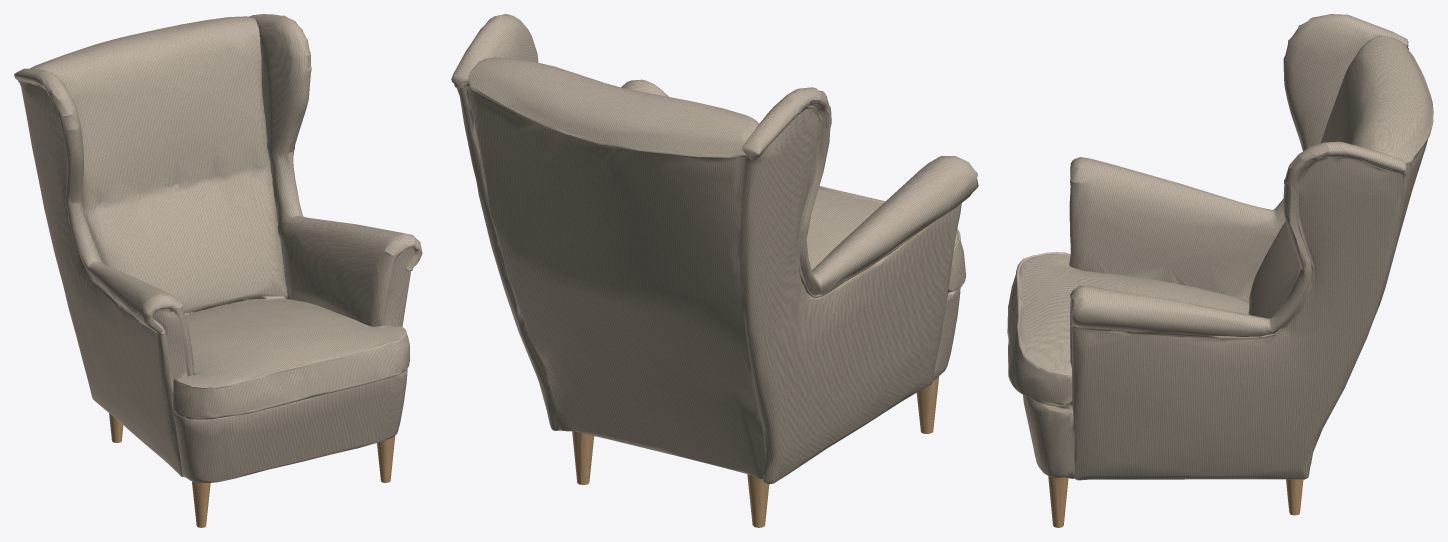
File: strandmon_wing_chair_kelinge_beige.glb
3 views of the same model, side by side, from view 1: azimuth 30°, elevation 25°; view 2: azimuth 150°, elevation 25°; view 3: azimuth 270°, elevation 25° (orthographic). The views are drawn at different scales.
Parts seen in each view (by area): view 1: ProcessedMeshNode; view 2: ProcessedMeshNode; view 3: ProcessedMeshNode.
Part boxes in pixels (bbox=[...]): ProcessedMeshNode: bbox=[14, 14, 422, 527]; ProcessedMeshNode: bbox=[451, 14, 978, 527]; ProcessedMeshNode: bbox=[1007, 14, 1433, 527].
Bounding box in the file's own units: 0.8075 × 1.01 × 0.9804.
1 material, 1 textured.
